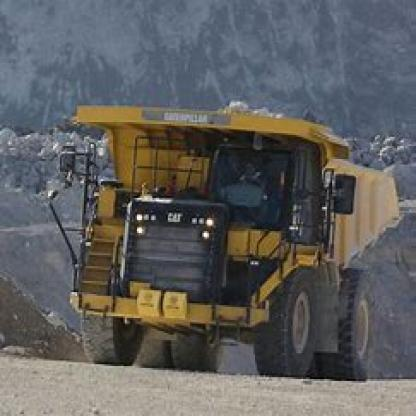dump_truck: (45, 95, 400, 386)
